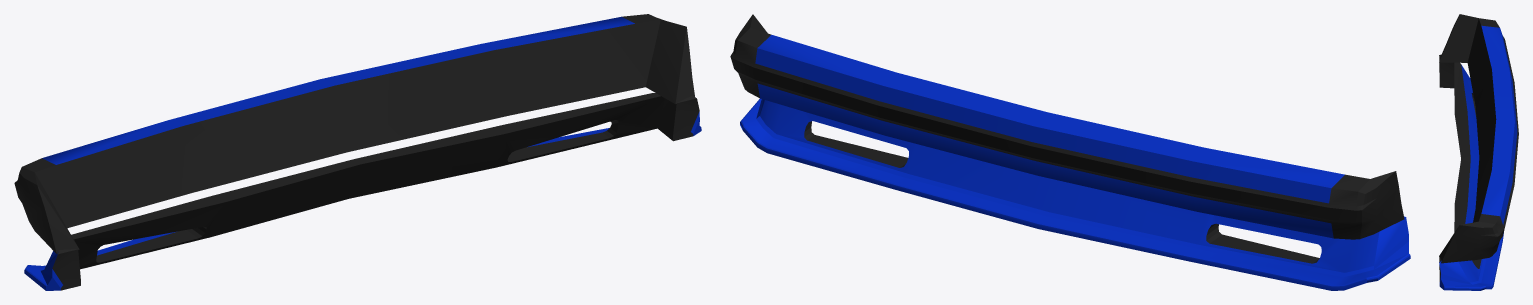
File: Classic_1_Bumper_F_3.fbx
The picture shows the model from 3 angles, left to right: view 1: azimuth 30°, elevation 25°; view 2: azimuth 150°, elevation 25°; view 3: azimuth 270°, elevation 25°; orthographic projection. The views are drawn at different scales.
Parts seen in each view (by area): view 1: Classic_1_Bumper_F_3; view 2: Classic_1_Bumper_F_3; view 3: Classic_1_Bumper_F_3.
Boxes of the visible parts, x1,y1,x2,y2 form: Classic_1_Bumper_F_3: (14,14,701,290); Classic_1_Bumper_F_3: (730,14,1410,290); Classic_1_Bumper_F_3: (1439,14,1518,290).
Size of the model in its own units: 178 by 29.24 by 28.28.
